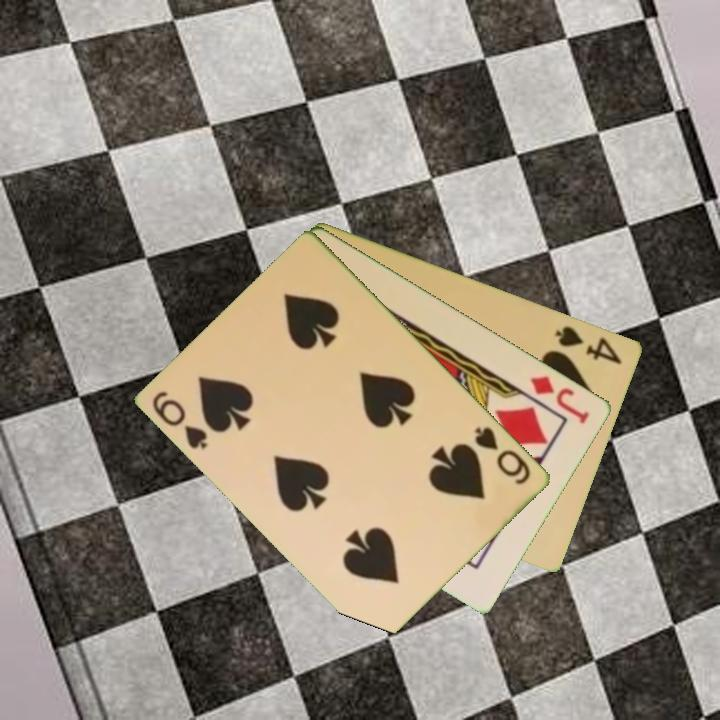4s: (552, 322, 626, 367)
6s: (471, 423, 534, 488), (149, 387, 211, 452)
Jd: (527, 372, 593, 427)
